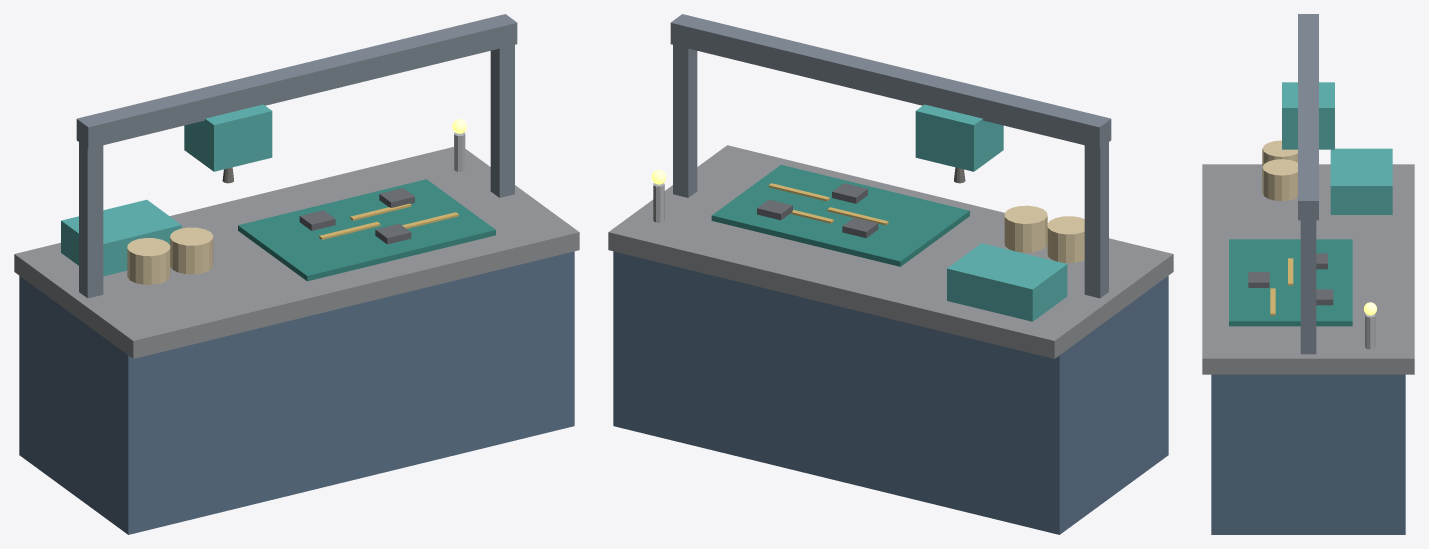
The model's file is electronics-fab.glb.
3 renders of one model, left to right at view 1: azimuth 30°, elevation 25°; view 2: azimuth 150°, elevation 25°; view 3: azimuth 270°, elevation 25°, orthographic. The views are drawn at different scales.
Parts seen in each view (by area): view 1: Cabinet, WorkTop, GantryBeam, PCB, GantryHead, PartsBin, GantryPost, GantryPost.001, Spool.001, Spool; view 2: Cabinet, WorkTop, GantryBeam, PCB, PartsBin, GantryHead, GantryPost, GantryPost.001, Spool.001, Spool; view 3: Cabinet, WorkTop, PCB, GantryBeam, PartsBin, GantryPost.001, GantryHead, Spool.001, Spool, LampBase, Chip.002, Chip.
Boxes of the visible parts, x1,y1,x2,y2 form: Cabinet: (19,251,574,534); WorkTop: (14,147,579,358); GantryBeam: (76,14,517,148); PCB: (238,179,495,281); GantryHead: (184,104,272,171); PartsBin: (61,199,181,276); GantryPost: (79,142,103,298); GantryPost.001: (490,45,514,197); Spool.001: (170,227,213,274); Spool: (127,238,170,284); Cabinet: (613,251,1168,534); WorkTop: (608,145,1173,358); GantryBeam: (670,14,1111,148); PCB: (711,164,969,266); PartsBin: (947,243,1067,321); GantryHead: (915,104,1003,171); GantryPost: (1084,142,1108,298); GantryPost.001: (673,45,697,197); Spool.001: (1004,205,1047,252); Spool: (1047,216,1084,263); Cabinet: (1211,374,1405,534); WorkTop: (1202,164,1414,374); PCB: (1229,239,1352,326); GantryBeam: (1298,14,1318,220); PartsBin: (1330,148,1392,214); GantryPost.001: (1300,220,1316,354); GantryHead: (1282,82,1334,149); Spool.001: (1262,159,1297,201); Spool: (1262,140,1297,166); LampBase: (1365,314,1375,349); Chip.002: (1248,272,1269,287); Chip: (1316,289,1333,305).
Bounding box in the file's own units: 2.6 × 2.06 × 1.2.
